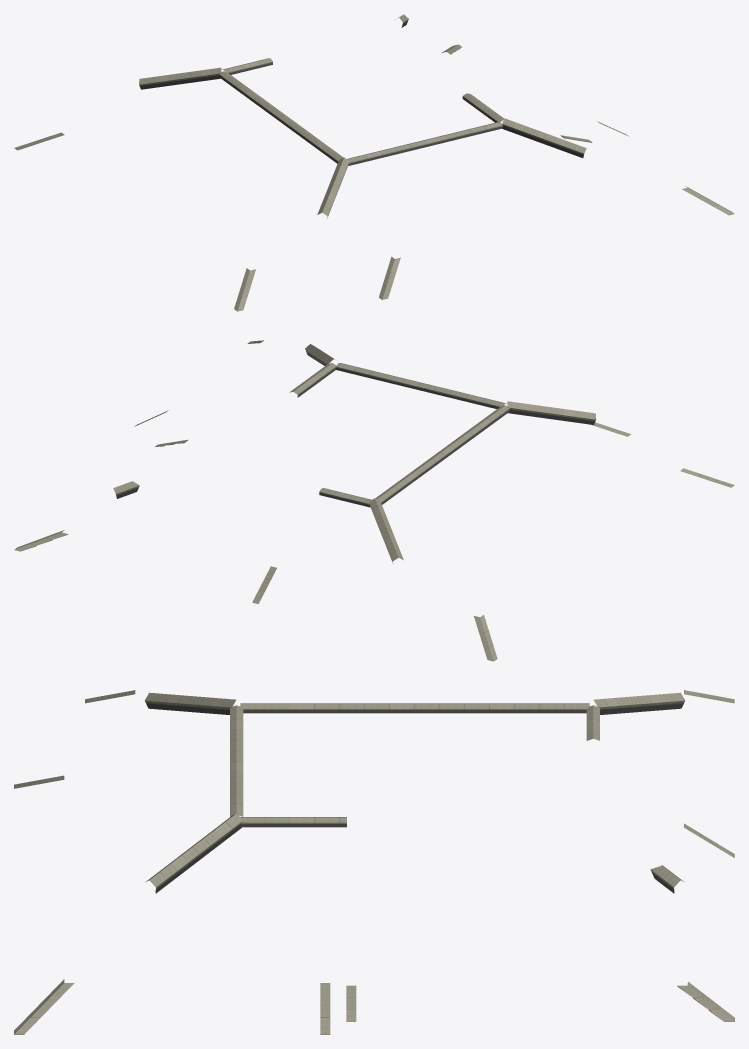
File: kd_stage_135ded_4_95_exterior.glb
3 views of the same model, one above another, from view 1: azimuth 30°, elevation 25°; view 2: azimuth 150°, elevation 25°; view 3: azimuth 270°, elevation 25° (orthographic). The views are drawn at different scales.
Visible parts, largest first — view 1: kd_stage_135ded_4_95_exterior; view 2: kd_stage_135ded_4_95_exterior; view 3: kd_stage_135ded_4_95_exterior.
Boxes of the visible parts, bbox=[...] form: kd_stage_135ded_4_95_exterior: bbox=[14, 14, 734, 311]; kd_stage_135ded_4_95_exterior: bbox=[14, 340, 734, 661]; kd_stage_135ded_4_95_exterior: bbox=[14, 690, 734, 1034].
Size of the model in its own units: 11.8 by 1.97 by 10.71.
Materials: 1 (1 with a texture image).
